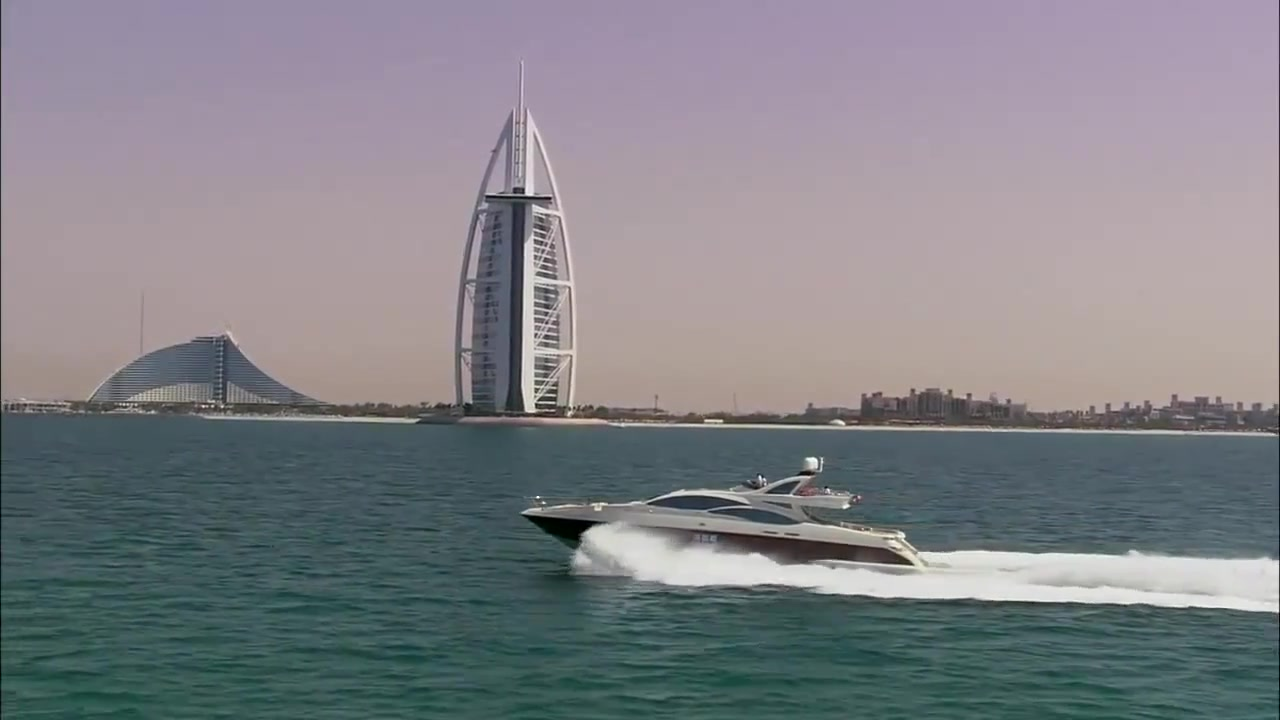boat: (527, 455, 937, 581), (416, 404, 475, 435)
